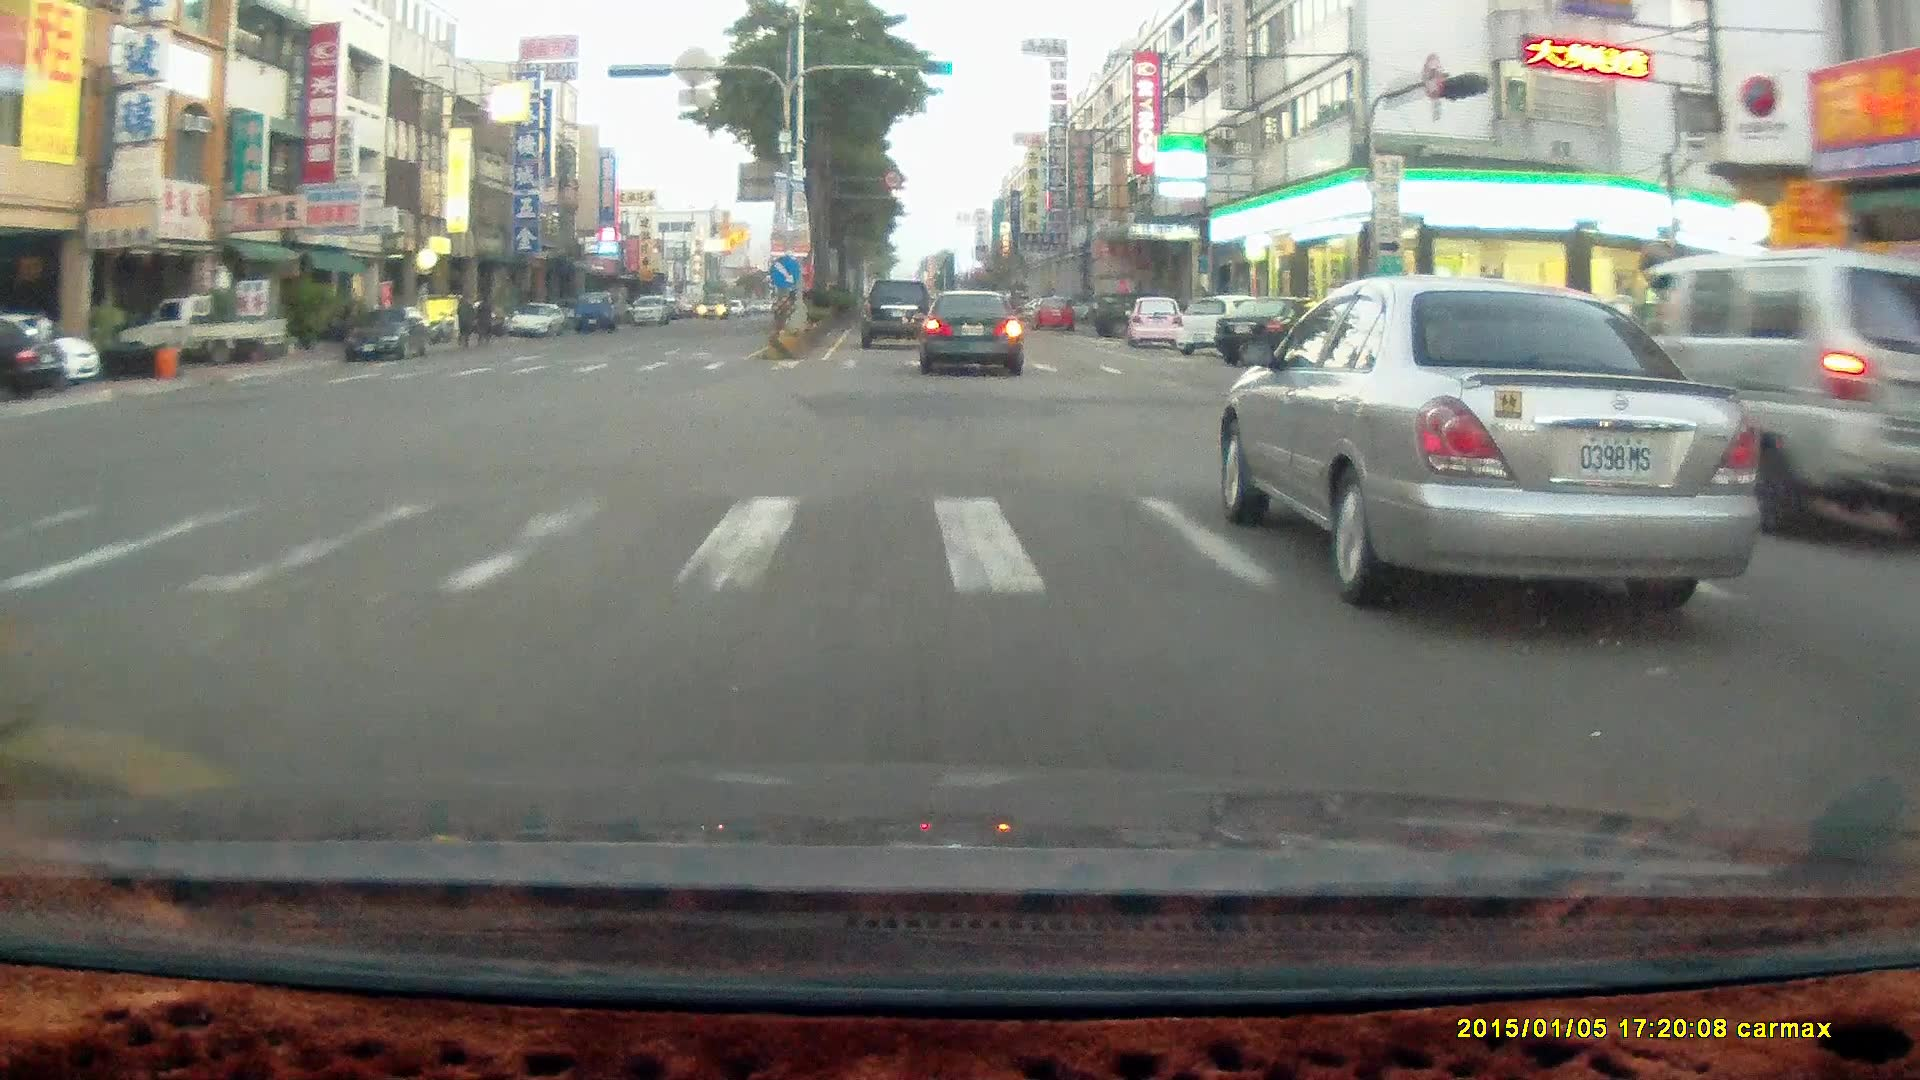pedestrian: (476, 281, 500, 344), (454, 287, 476, 346), (453, 289, 473, 349), (473, 291, 494, 348)
vehicle: (1225, 284, 1763, 603), (1602, 247, 1919, 547), (1597, 254, 1920, 522), (115, 293, 286, 375), (113, 293, 286, 369), (923, 292, 1030, 380), (1213, 292, 1343, 362), (920, 287, 1023, 375), (1218, 296, 1335, 365), (1179, 294, 1278, 357), (338, 301, 438, 363), (861, 276, 935, 352), (859, 278, 935, 349), (344, 309, 431, 360), (0, 320, 60, 392), (1121, 296, 1184, 350), (1092, 290, 1163, 336), (1129, 296, 1185, 350), (507, 302, 569, 340), (507, 302, 564, 336), (572, 289, 613, 331), (1031, 293, 1075, 329), (631, 294, 668, 324)
